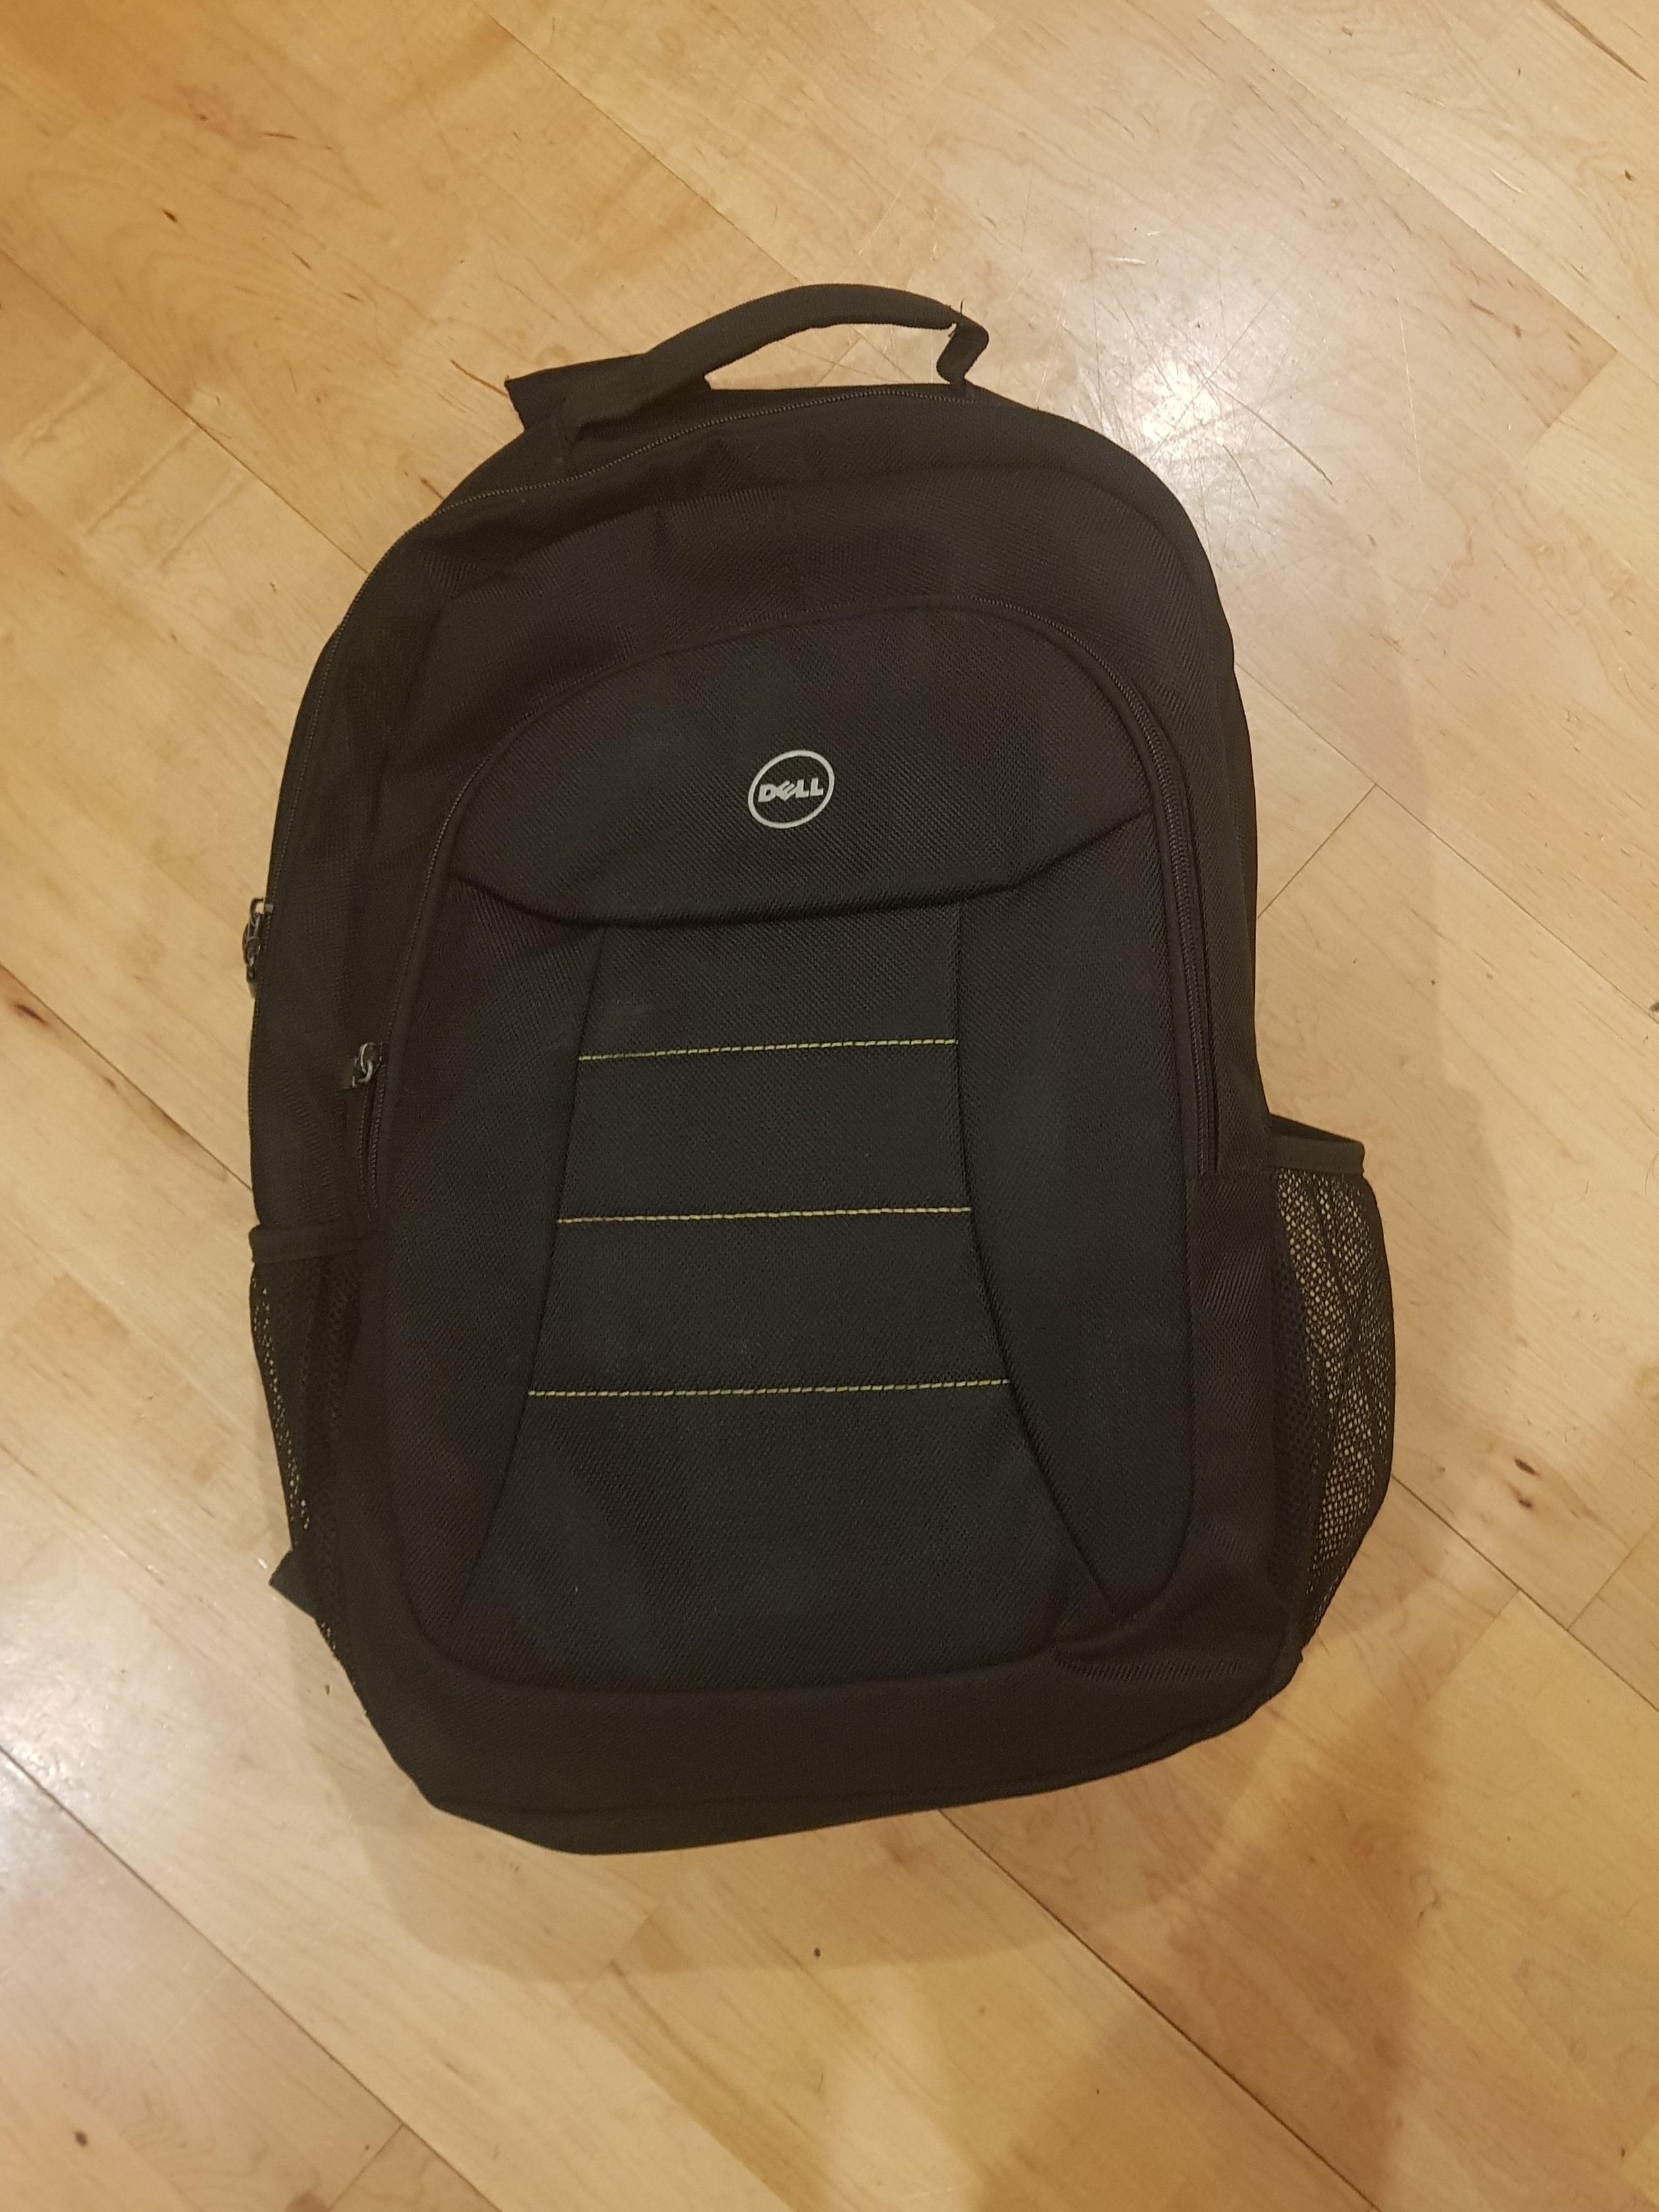Black: (214, 273, 1417, 1869)
